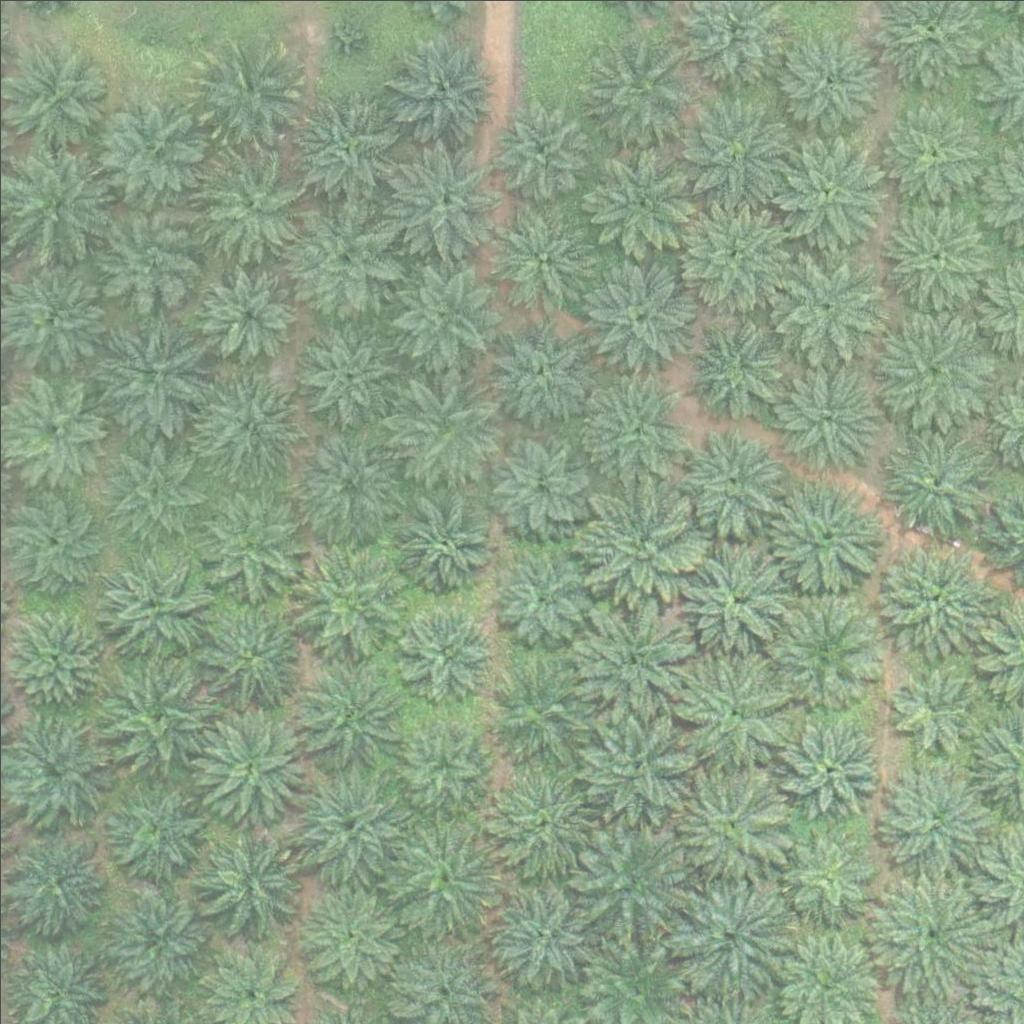Kelapa_Sawit: (575, 826, 688, 940), (290, 660, 403, 774), (192, 484, 305, 598), (99, 429, 212, 543), (97, 319, 210, 433), (189, 364, 302, 478), (769, 134, 882, 248), (676, 879, 789, 992), (876, 541, 989, 654), (766, 482, 879, 595), (675, 766, 788, 879), (580, 707, 693, 820), (578, 601, 691, 714), (584, 486, 697, 599), (386, 828, 499, 941), (289, 768, 402, 881), (195, 707, 308, 820), (193, 598, 306, 711), (93, 199, 206, 312), (385, 255, 498, 368), (385, 142, 498, 255), (382, 27, 495, 140), (487, 206, 600, 319), (671, 195, 784, 308), (677, 100, 790, 213), (770, 360, 883, 473), (766, 244, 879, 357), (879, 425, 992, 538), (874, 311, 987, 424), (488, 875, 600, 989), (480, 767, 592, 881), (290, 535, 402, 649), (874, 196, 986, 310), (192, 38, 304, 151), (101, 881, 213, 994), (874, 877, 986, 990), (880, 759, 992, 872), (768, 596, 880, 709), (674, 654, 786, 767), (676, 548, 788, 661), (483, 653, 595, 766), (294, 427, 406, 540), (193, 827, 305, 940), (103, 774, 215, 887), (104, 658, 216, 771), (96, 544, 208, 657), (1, 711, 113, 824), (89, 92, 201, 205), (194, 148, 306, 261), (294, 202, 406, 315), (290, 95, 402, 208), (391, 373, 503, 486), (579, 369, 691, 482), (582, 258, 694, 371), (577, 146, 689, 259), (578, 39, 690, 152), (672, 424, 784, 537), (298, 885, 398, 986), (881, 653, 981, 754), (777, 831, 877, 932), (781, 720, 881, 821), (491, 548, 591, 649), (489, 429, 589, 530), (389, 487, 489, 588), (7, 831, 107, 932), (4, 608, 104, 709), (197, 263, 297, 364), (295, 322, 395, 423), (489, 325, 589, 426), (488, 98, 588, 199), (679, 319, 779, 420), (394, 601, 494, 701), (774, 31, 874, 131), (881, 100, 981, 200), (400, 716, 488, 804), (318, 10, 368, 61), (127, 18, 177, 68)
